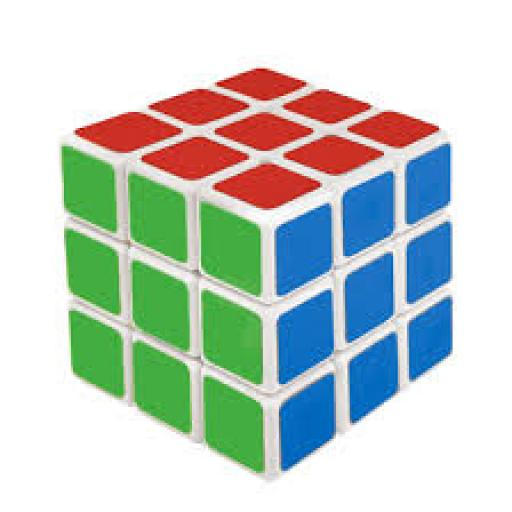cubic: (45, 62, 472, 490)
